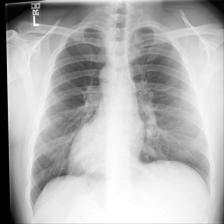normal: (29, 21, 214, 209)
